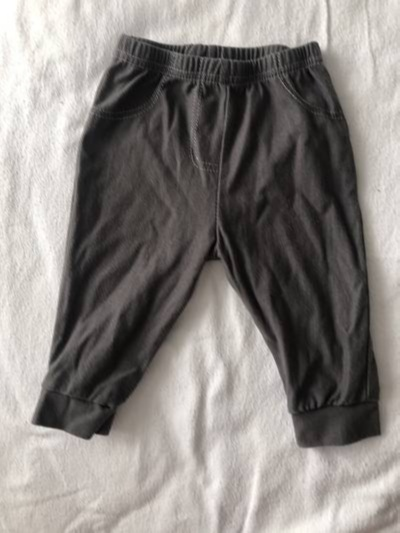Pants: (18, 20, 387, 451)
